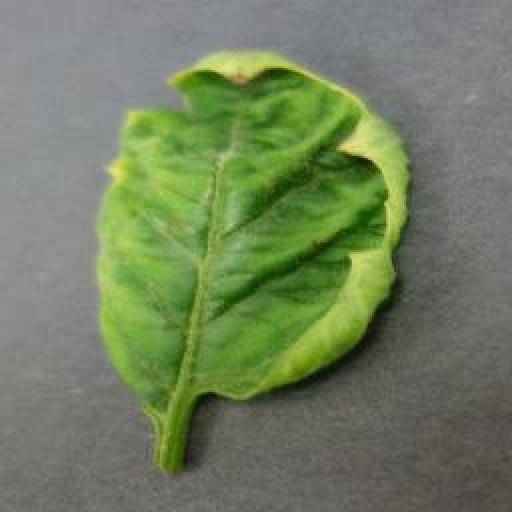disease_tomato: (92, 47, 414, 404)
